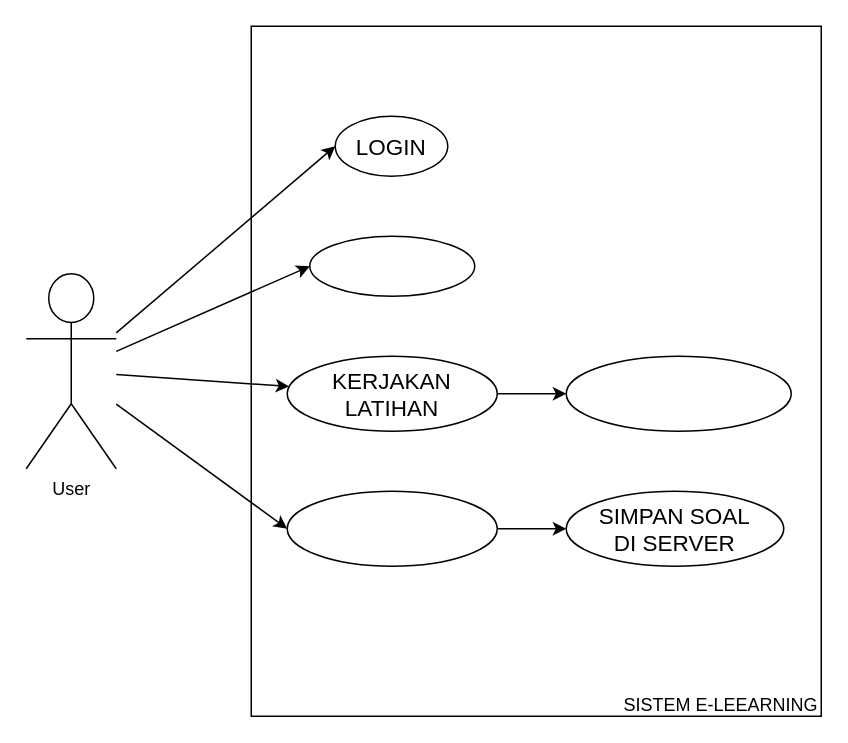
The diagram is 848 pixels wide and 743 high, and some of its shapes have lost their labels. The centre of each missing label's shape, as x and y in pixels:
BUAT SOAL: the point at 391,528
DAPAT SERTIFIKAT: the point at 678,393
REGISTER: the point at 391,265
